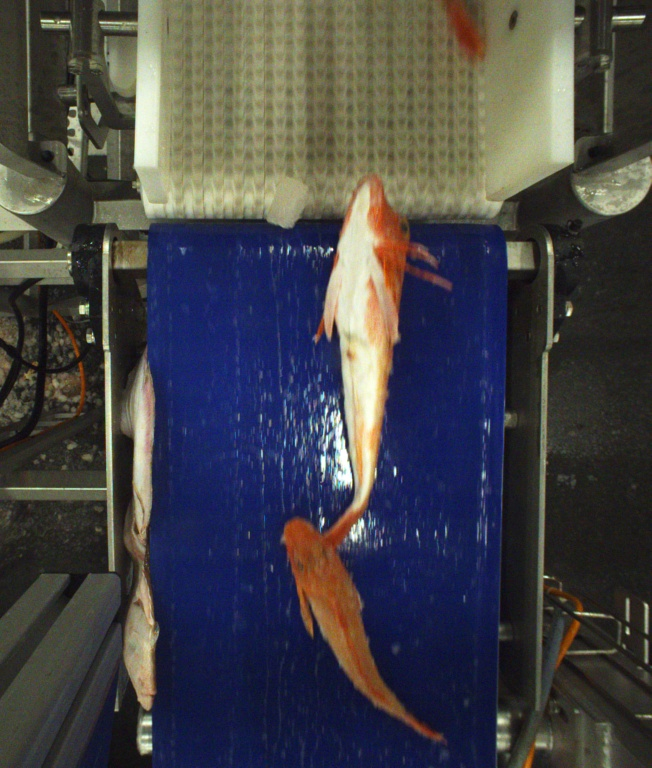GUU: (319, 171, 452, 546)
